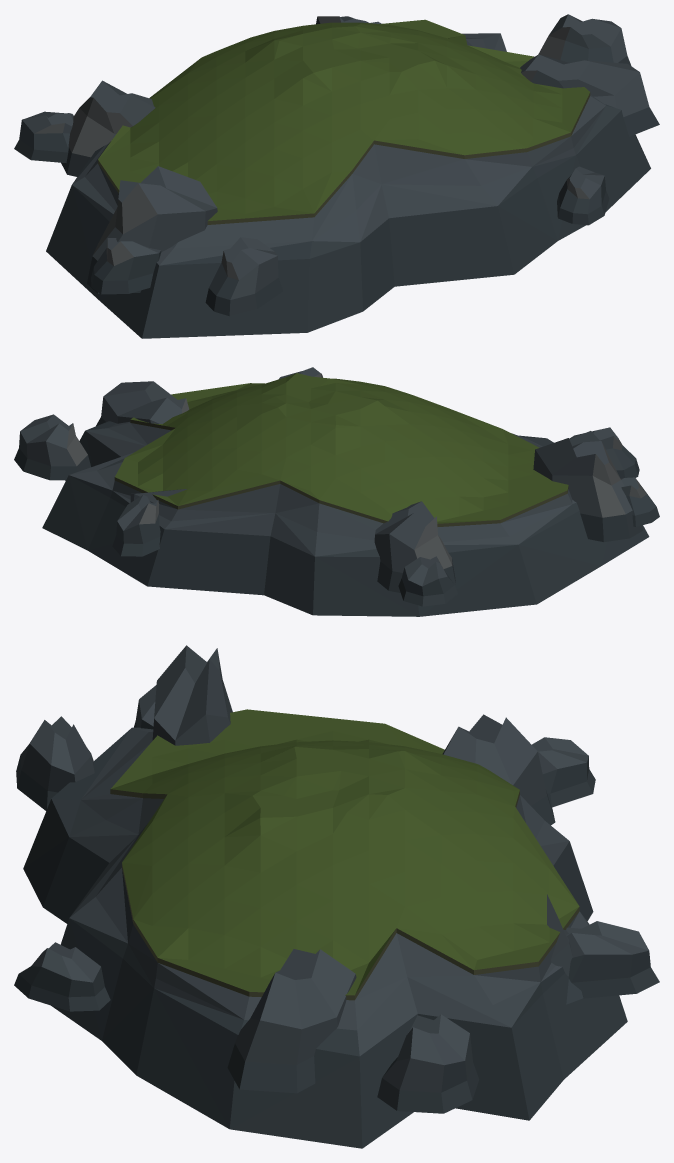
File: island_c.glb
The picture shows the model from 3 angles, top to bottom: view 1: azimuth 30°, elevation 25°; view 2: azimuth 150°, elevation 25°; view 3: azimuth 270°, elevation 25°; orthographic projection. The views are drawn at different scales.
Visible parts, largest first — view 1: island_c_Coast blue grey bedrock, island_c_Coast short olive grass; view 2: island_c_Coast blue grey bedrock, island_c_Coast short olive grass; view 3: island_c_Coast blue grey bedrock, island_c_Coast short olive grass.
Boxes of the visible parts, box(x1,y1,x2,y2) form: island_c_Coast blue grey bedrock: box(14, 14, 659, 338); island_c_Coast short olive grass: box(98, 19, 590, 224); island_c_Coast blue grey bedrock: box(14, 367, 659, 616); island_c_Coast short olive grass: box(114, 373, 568, 526); island_c_Coast blue grey bedrock: box(14, 645, 659, 1148); island_c_Coast short olive grass: box(110, 709, 579, 1000).
Size of the model in its own units: 111 by 25.57 by 78.06.
